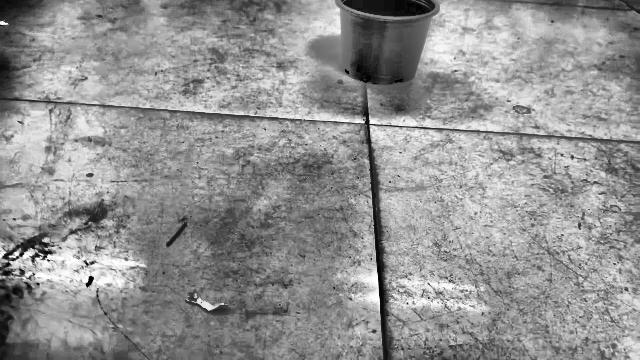pot: (335, 0, 439, 84)
